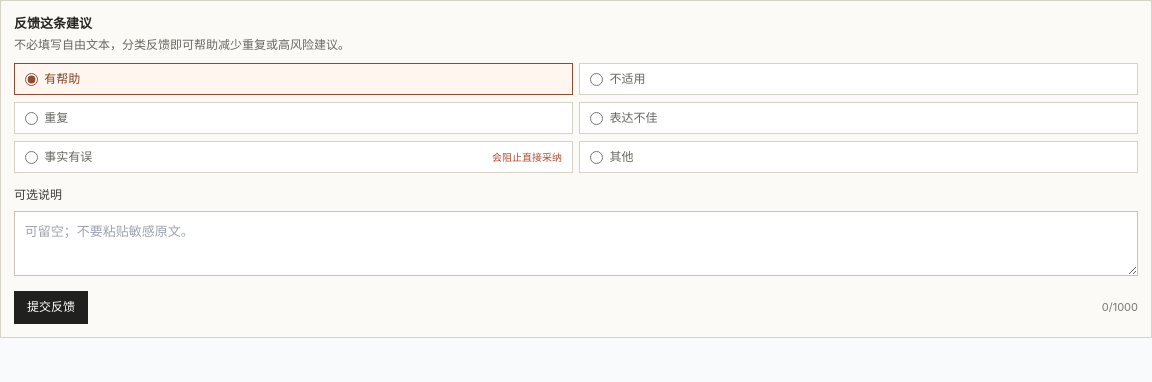
Test: FeedbackControl › submits category feedback without requiring free text
Click the radio button labelled "事实有误". click: click(31, 157)
box: [25,150,38,164]
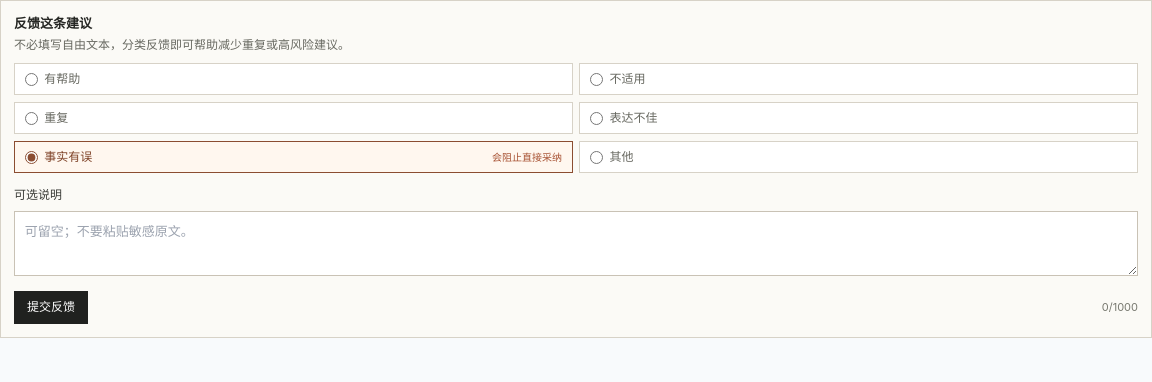
Click the button "提交反馈". click: click(51, 307)
box: [14,291,88,324]
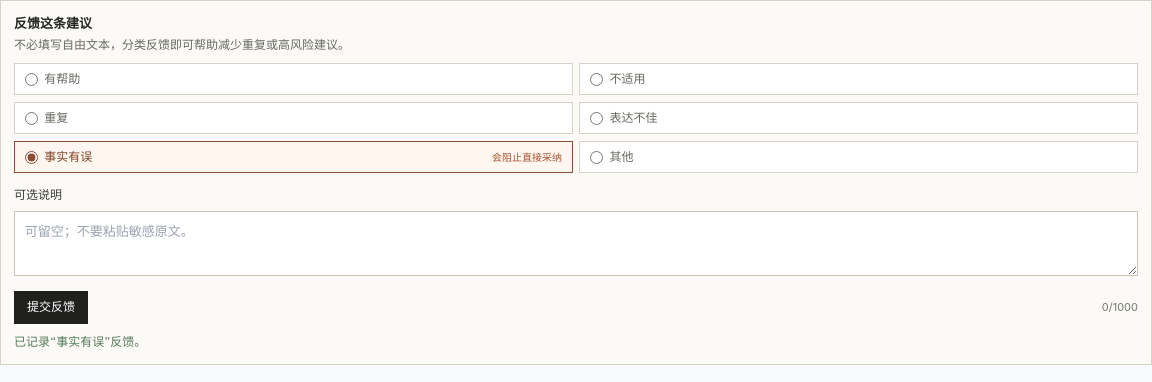
Result: the message shows "事实有误" at [56,334,104,349]
